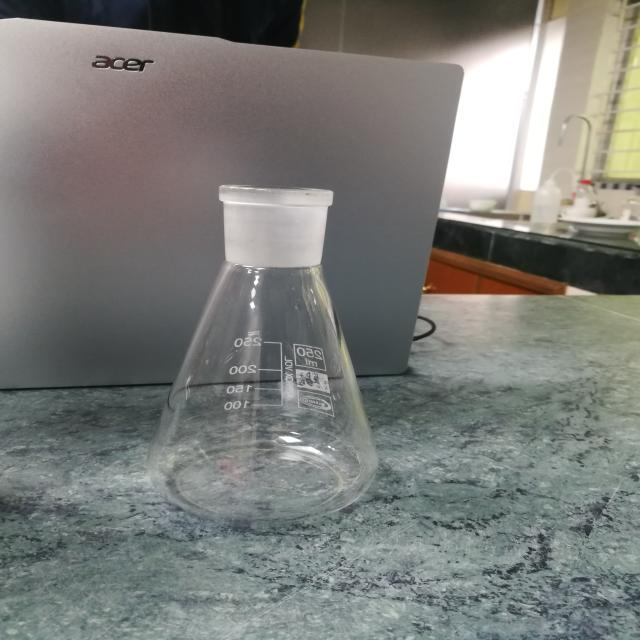Conical_Flask: (118, 139, 420, 538)
